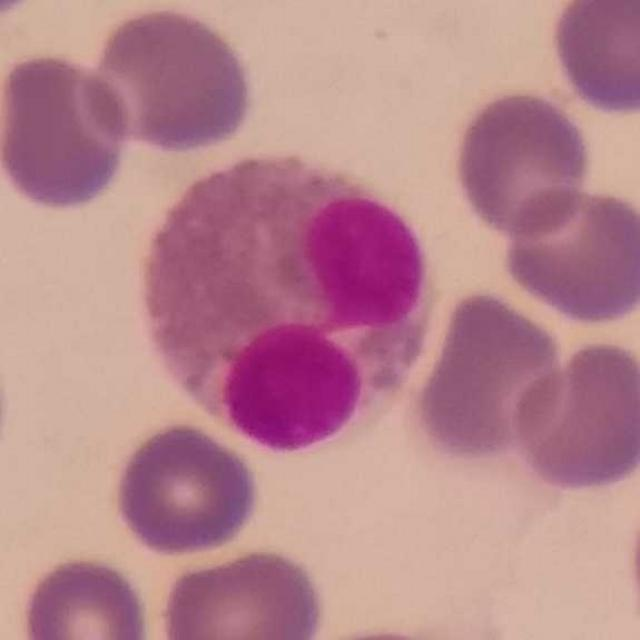Eosinophil: (135, 144, 440, 463)
RBC: (404, 285, 572, 469), (80, 1, 261, 157), (448, 85, 596, 242), (0, 47, 136, 216), (108, 418, 264, 560), (507, 331, 640, 495), (497, 182, 640, 328), (156, 543, 328, 640), (17, 551, 156, 640), (546, 0, 640, 119), (621, 467, 640, 640)
